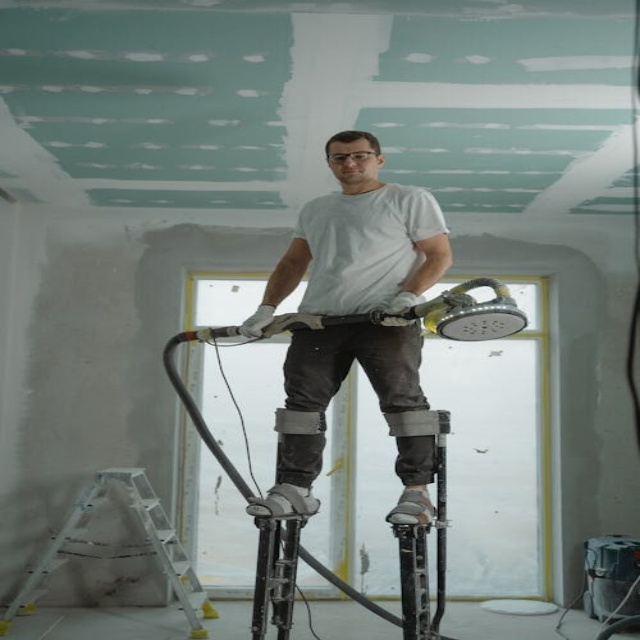Gafas: (328, 152, 378, 163)
Guantes: (238, 304, 277, 338), (384, 291, 422, 316)
Sin_mascara: (334, 166, 369, 182)
